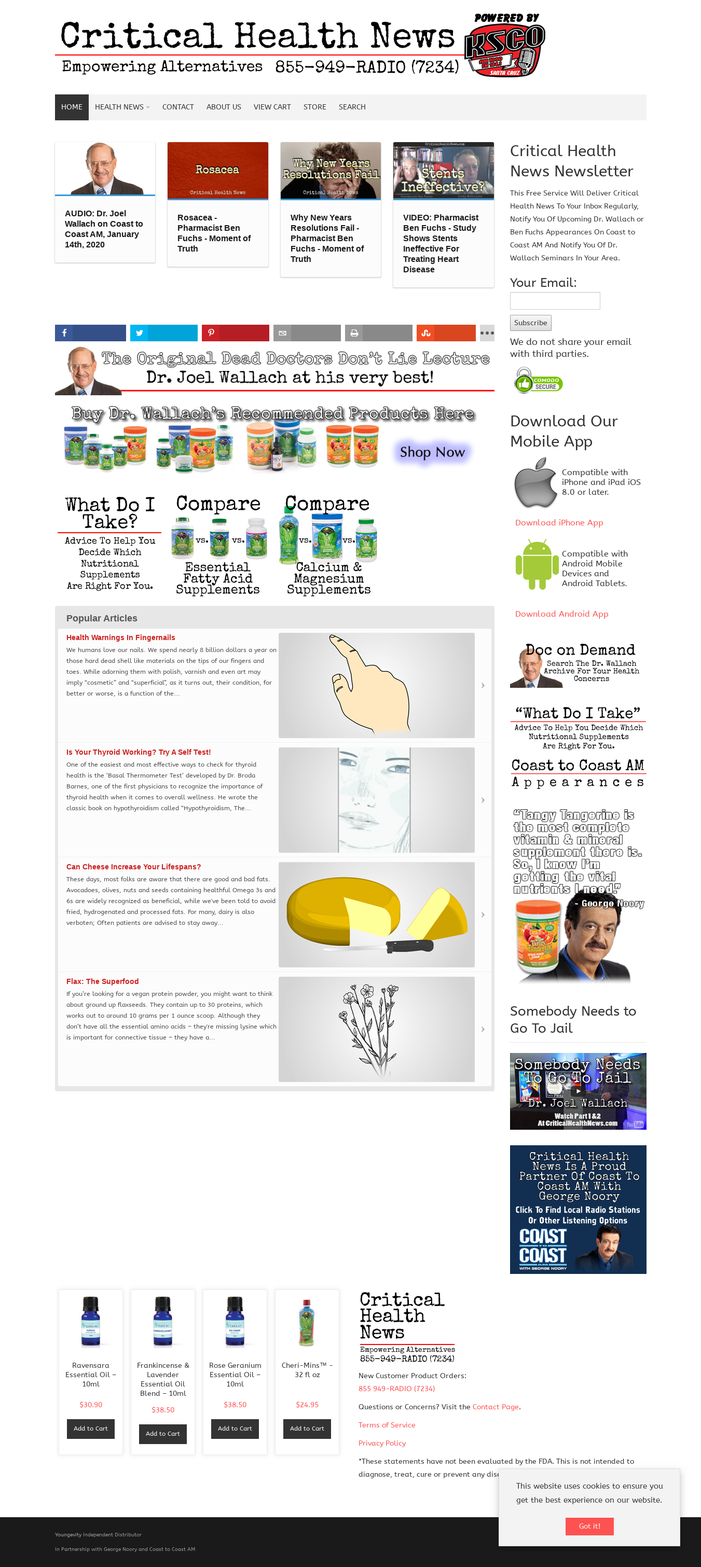fake_button: (558, 1513, 633, 1541), (501, 311, 560, 331)
